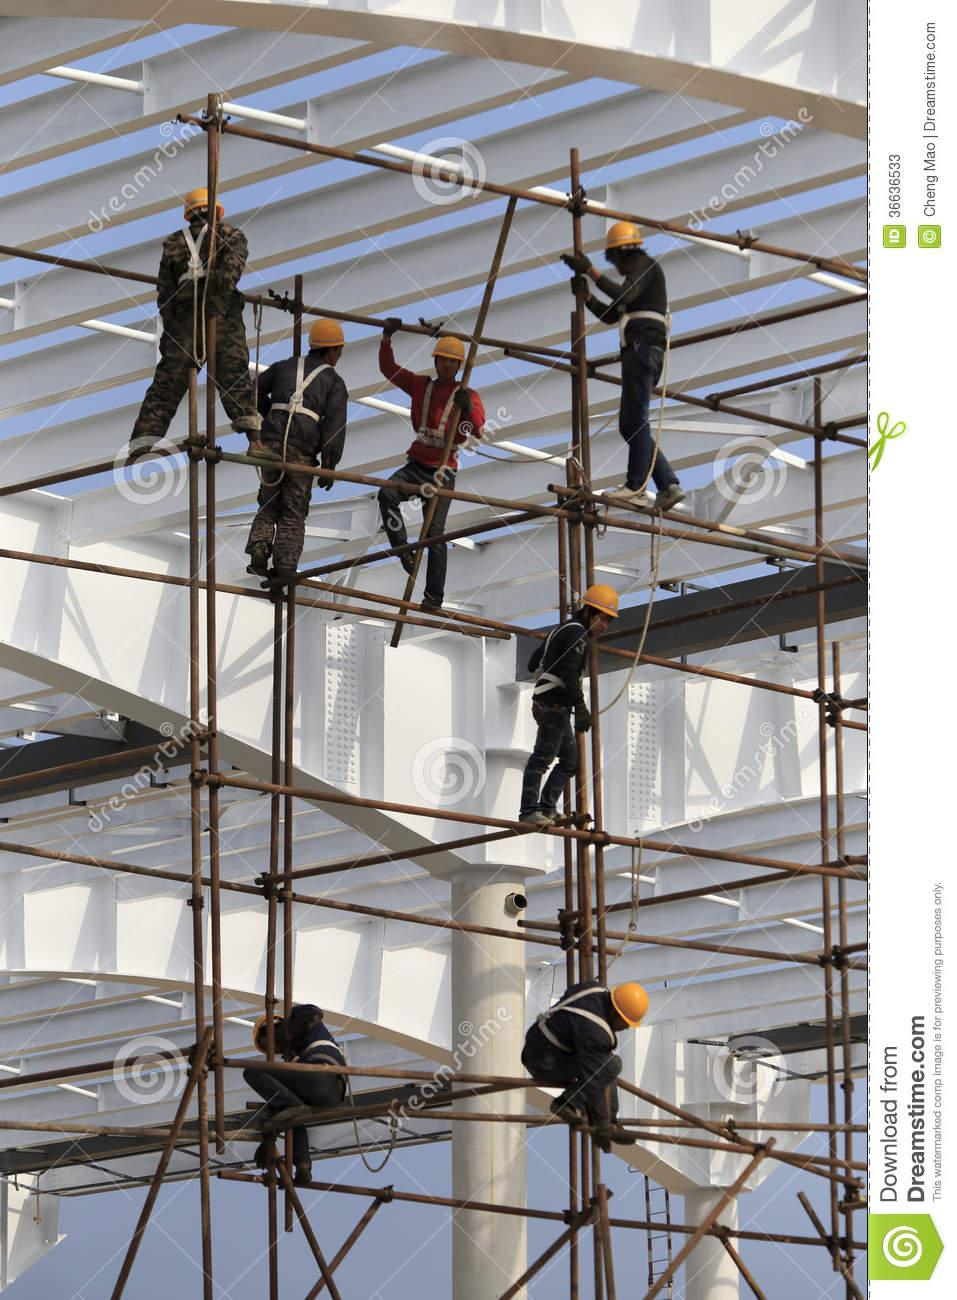helmet: (611, 981, 649, 1032), (580, 582, 622, 620), (604, 221, 644, 257), (182, 186, 223, 221), (309, 317, 346, 354), (254, 1012, 282, 1057), (430, 336, 469, 365)
